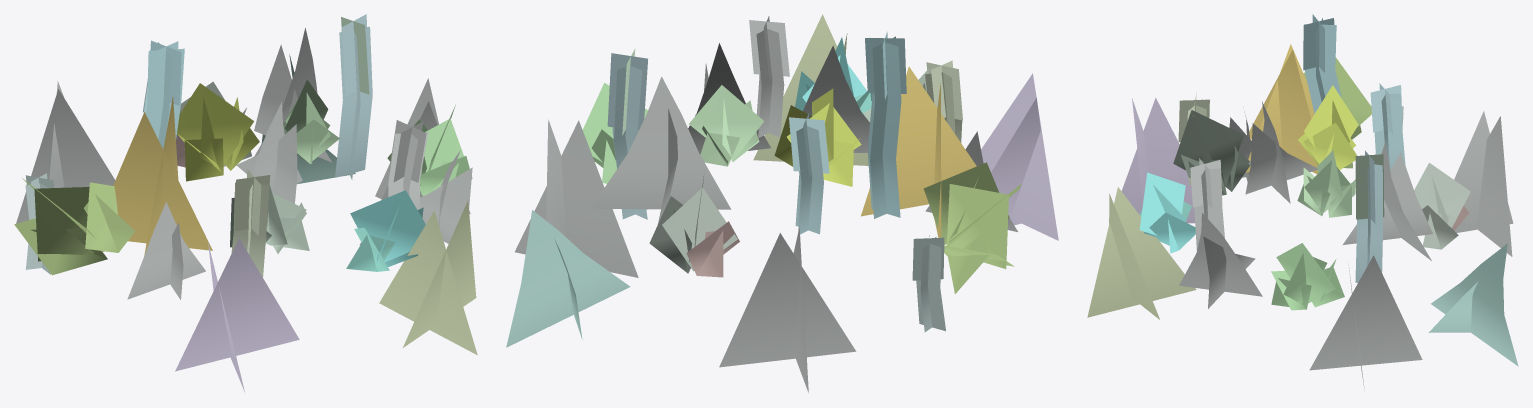
The picture shows the model from 3 angles, left to right: view 1: azimuth 30°, elevation 25°; view 2: azimuth 150°, elevation 25°; view 3: azimuth 270°, elevation 25°; orthographic projection. The views are drawn at different scales.
Parts seen in each view (by area): view 1: G:\FFXIV-MapTools\exports\e3f1\bg\ex2\02_est_e3\fld\e3f1\bgp (×2); view 2: G:\FFXIV-MapTools\exports\e3f1\bg\ex2\02_est_e3\fld\e3f1\bgp (×2); view 3: G:\FFXIV-MapTools\exports\e3f1\bg\ex2\02_est_e3\fld\e3f1\bgp (×2).
Boxes of the visible parts, box(x1,y1,x2,y2) form: G:\FFXIV-MapTools\exports\e3f1\bg\ex2\02_est_e3\fld\e3f1\bgp (×2): box(14, 14, 477, 391); G:\FFXIV-MapTools\exports\e3f1\bg\ex2\02_est_e3\fld\e3f1\bgp (×2): box(506, 14, 1058, 393); G:\FFXIV-MapTools\exports\e3f1\bg\ex2\02_est_e3\fld\e3f1\bgp (×2): box(1087, 14, 1518, 391).
Size of the model in its own units: 8.55 by 4.81 by 7.83.
